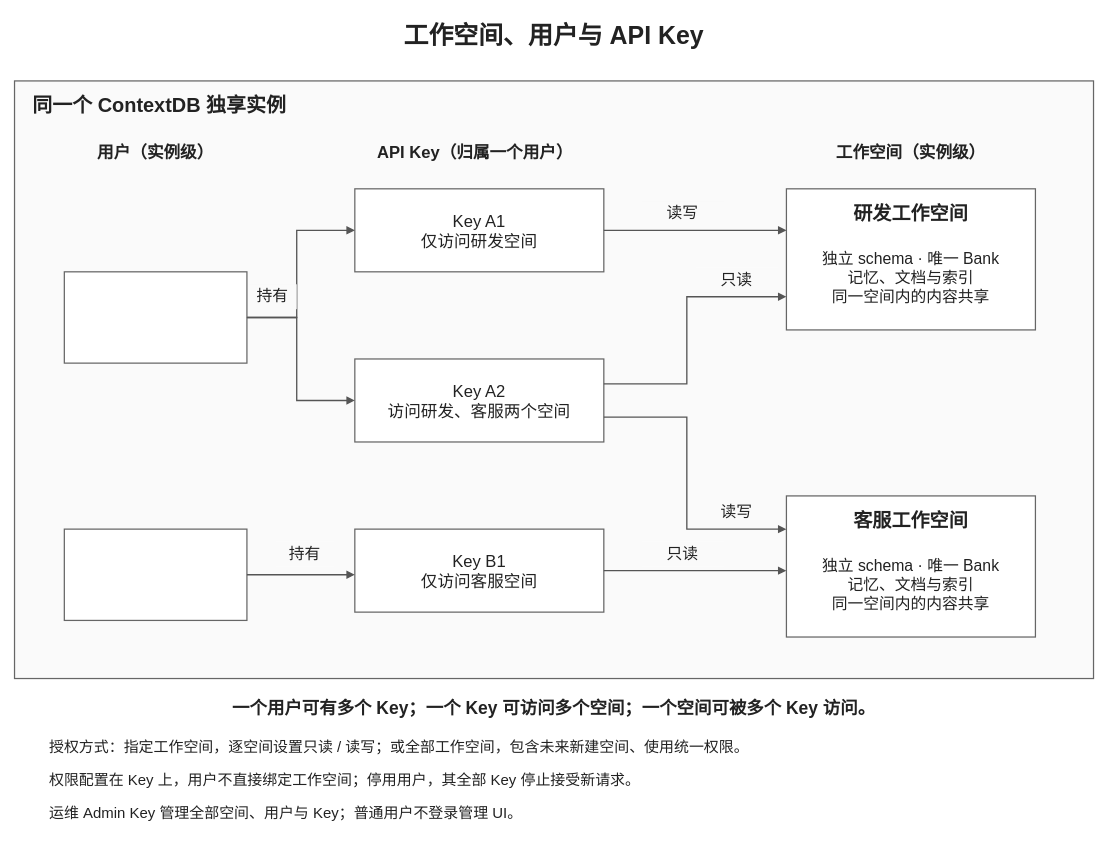
Image size: 1109x842. Some labels were removed from this diagram. The centre of each missing label's shape, as x and y in pixels:
用户 A: the point at 155,317
用户 B: the point at 155,574
